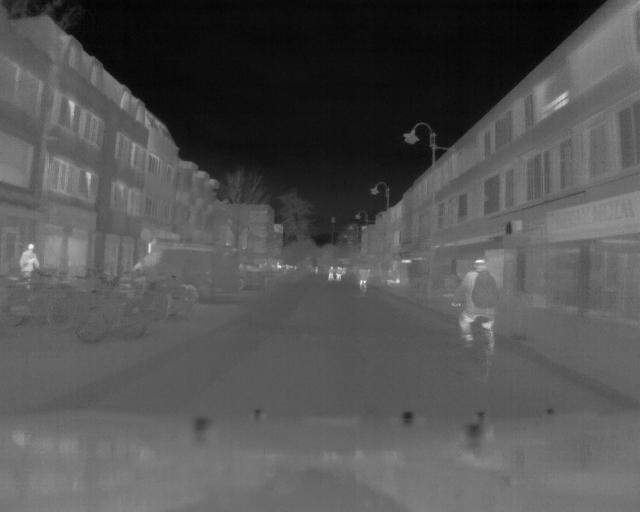person: (453, 251, 496, 367), (18, 241, 40, 284), (359, 267, 370, 295), (327, 262, 336, 284), (336, 261, 342, 285)
